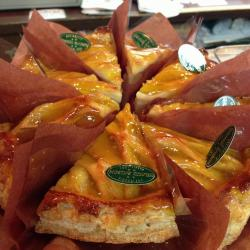apple_pie: (44, 96, 184, 243)
